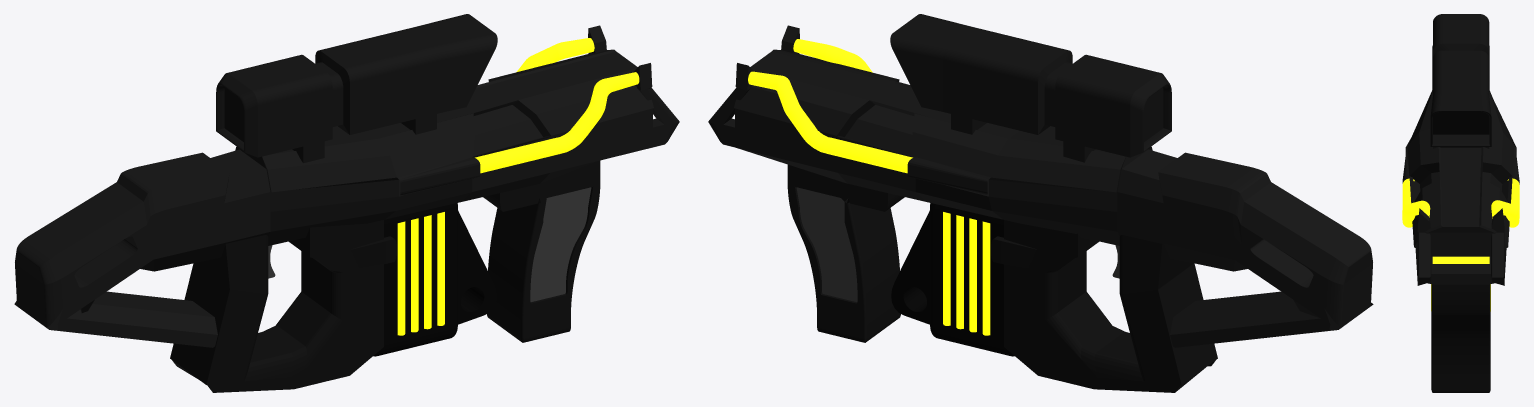
Rendered from gun2.fbx.
3 renders of one model, left to right at view 1: azimuth 30°, elevation 25°; view 2: azimuth 150°, elevation 25°; view 3: azimuth 270°, elevation 25°, orthographic. The views are drawn at different scales.
Parts seen in each view (by area): view 1: body, handle1, scope, handle2, ammo cartridge, Cylinder.001, Cube.002, Cylinder; view 2: body, handle1, scope, handle2, ammo cartridge, Cylinder.001, Cube.002, Cylinder; view 3: body, scope, handle2, Cylinder.001, Cube.
Part boxes in pixels (x1=…): body: x1=14, y1=25, x2=679, y2=347; handle1: x1=170, y1=220, x2=396, y2=392; scope: x1=216, y1=14, x2=497, y2=163; handle2: x1=483, y1=160, x2=600, y2=342; ammo cartridge: x1=373, y1=203, x2=496, y2=356; Cylinder.001: x1=475, y1=38, x2=639, y2=173; Cube.002: x1=530, y1=187, x2=591, y2=301; Cylinder: x1=397, y1=212, x2=444, y2=335; body: x1=708, y1=25, x2=1373, y2=347; handle1: x1=991, y1=220, x2=1217, y2=392; scope: x1=890, y1=14, x2=1171, y2=162; handle2: x1=787, y1=164, x2=904, y2=342; ammo cartridge: x1=891, y1=203, x2=1014, y2=356; Cylinder.001: x1=748, y1=39, x2=912, y2=173; Cube.002: x1=796, y1=187, x2=857, y2=301; Cylinder: x1=943, y1=212, x2=990, y2=335; body: x1=1402, y1=45, x2=1519, y2=285; scope: x1=1430, y1=14, x2=1491, y2=148; handle2: x1=1431, y1=284, x2=1490, y2=392; Cylinder.001: x1=1402, y1=178, x2=1519, y2=227; Cube: x1=1432, y1=256, x2=1489, y2=263.
Bounding box in the file's own units: 911 × 435 × 181.
